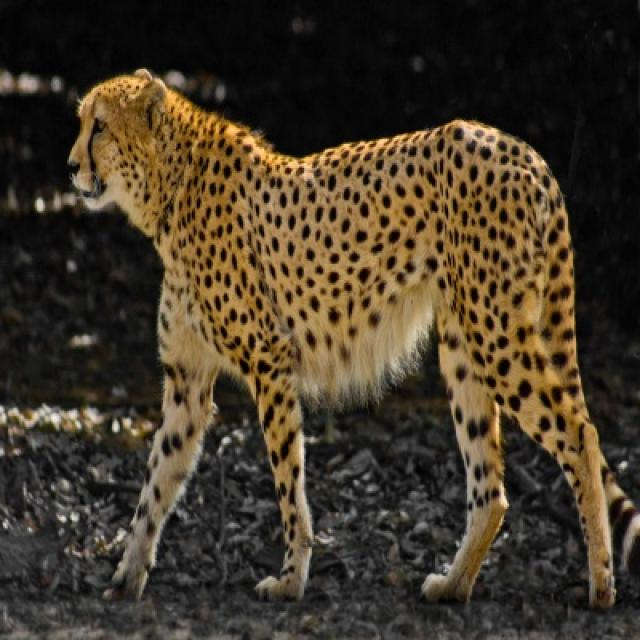Cheetah: (69, 69, 638, 603)
